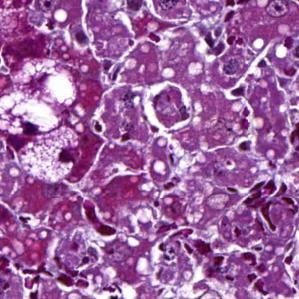ballooning: (11, 57, 78, 108), (3, 92, 60, 136)
